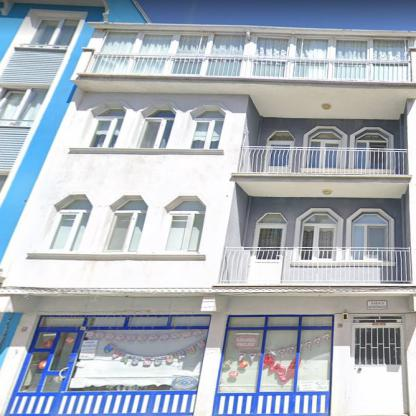door: (5, 328, 82, 415), (352, 316, 408, 412), (248, 213, 287, 281)
window: (89, 32, 407, 78), (38, 315, 210, 394), (216, 315, 333, 395), (40, 199, 93, 249), (100, 199, 148, 252), (156, 201, 206, 251), (1, 83, 50, 128), (346, 209, 396, 248), (20, 16, 80, 48), (294, 209, 343, 248), (184, 110, 225, 148), (85, 109, 125, 147), (136, 110, 176, 148), (350, 127, 394, 148), (303, 126, 346, 147), (266, 131, 294, 146)
